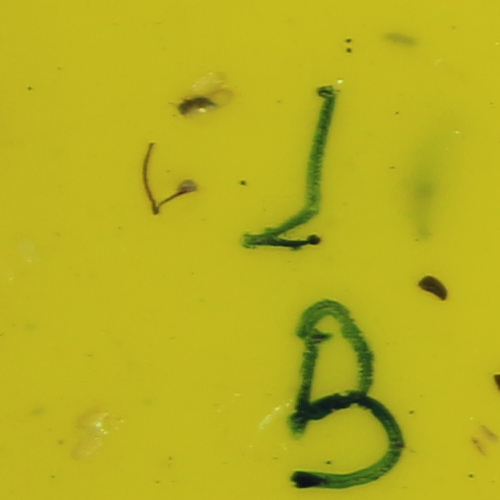psylla: (170, 94, 222, 116)
